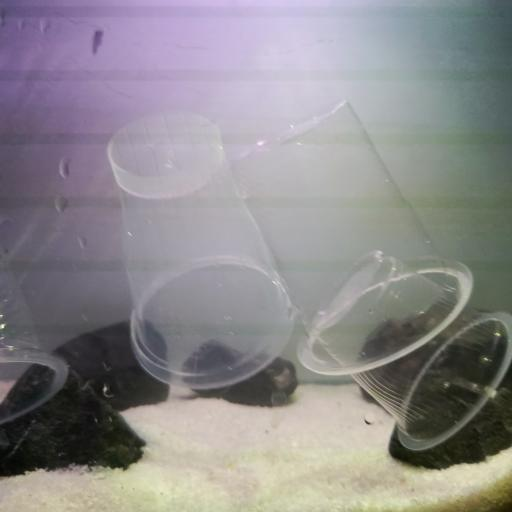plastic_cup: (228, 98, 473, 376), (108, 112, 296, 391), (310, 251, 512, 450), (2, 251, 72, 425)
